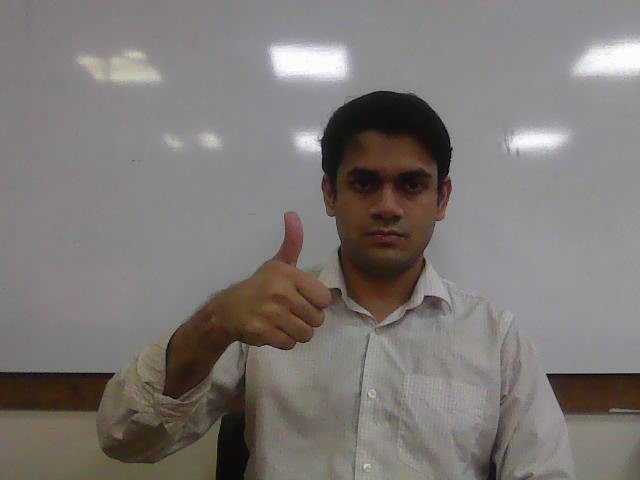Bhalo: (232, 211, 333, 352)
